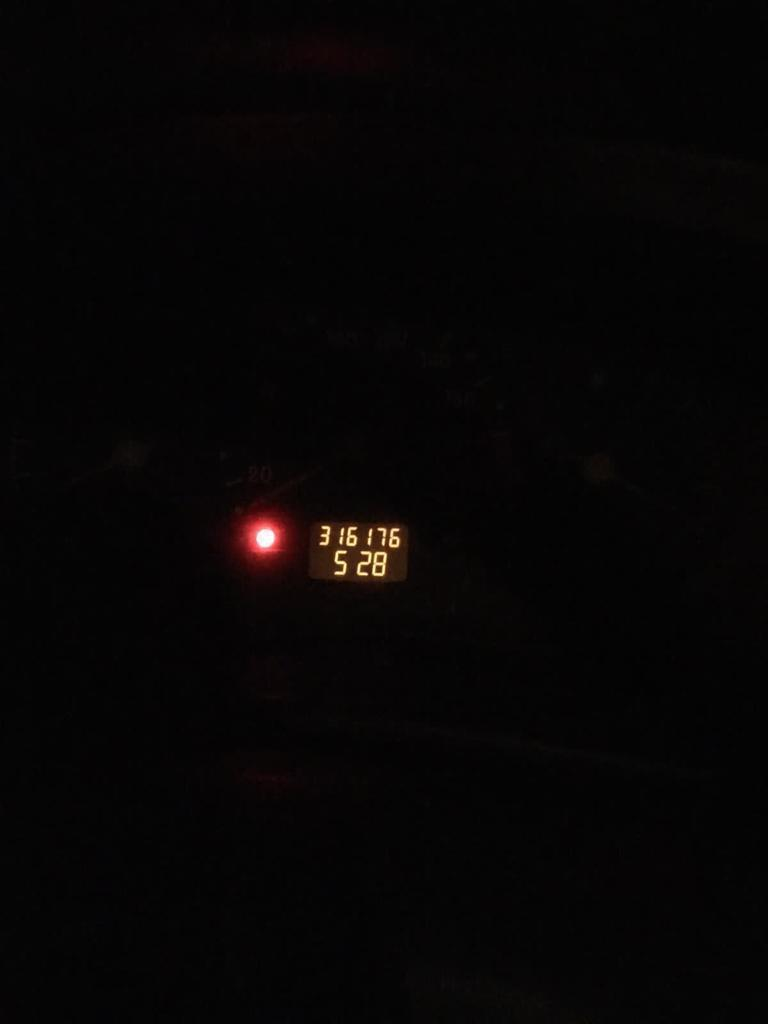1: (366, 527, 372, 546), (338, 526, 344, 545)
2: (355, 550, 372, 576)
3: (318, 525, 330, 546)
5: (333, 549, 347, 575)
6: (345, 525, 357, 546), (388, 527, 400, 548)
7: (376, 527, 387, 546)
8: (371, 550, 387, 577)
odometer: (306, 519, 410, 582)
